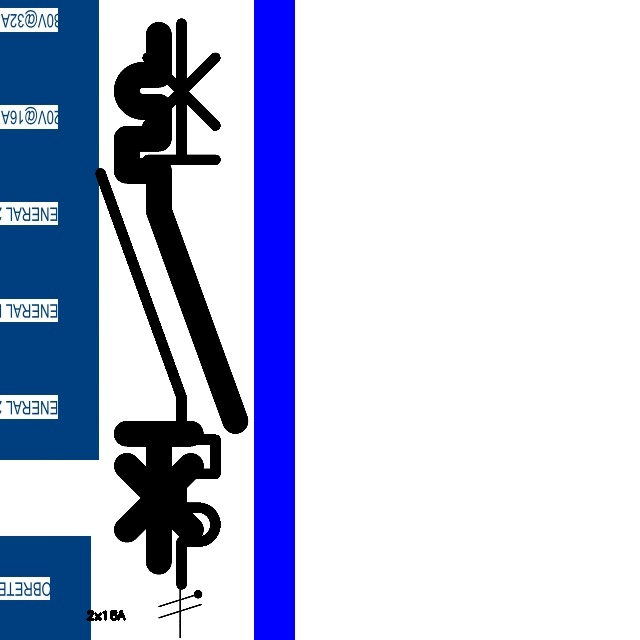interruptor_termomagnetico: (86, 9, 230, 599), (113, 21, 249, 575)
